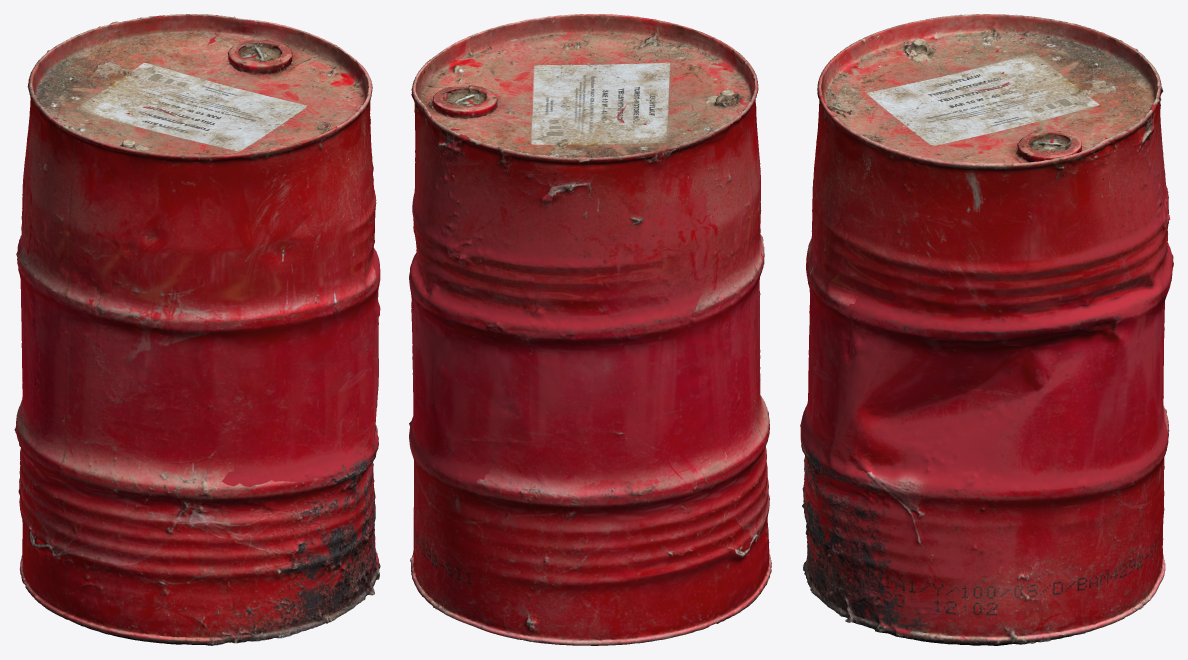
Rendered from oil_barrel.glb.
The picture shows the model from 3 angles, left to right: view 1: azimuth 30°, elevation 25°; view 2: azimuth 150°, elevation 25°; view 3: azimuth 270°, elevation 25°; orthographic projection.
Parts seen in each view (by area): view 1: oil barrel; view 2: oil barrel; view 3: oil barrel.
Boxes of the visible parts, x1=… form: oil barrel: x1=14, y1=14, x2=380, y2=645; oil barrel: x1=409, y1=14, x2=771, y2=645; oil barrel: x1=800, y1=14, x2=1173, y2=645.
Size of the model in its own units: 0.5009 by 0.7331 by 0.5107.
1 material, 1 textured.
